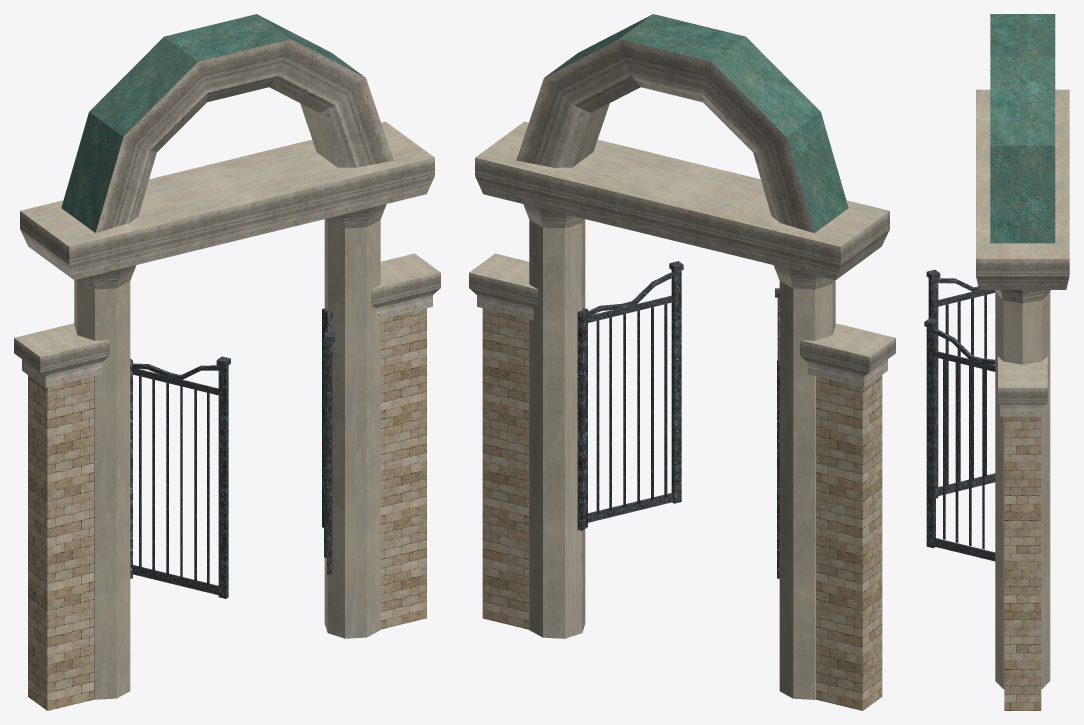
File: thm_nboo_imprv_narrow_gate_s01_l1.fbx
3 renders of one model, left to right at view 1: azimuth 30°, elevation 25°; view 2: azimuth 150°, elevation 25°; view 3: azimuth 270°, elevation 25°, orthographic. The views are drawn at different scales.
Visible parts, largest first — view 1: mesh_node; view 2: mesh_node; view 3: mesh_node.
Part boxes in pixels (x1,y1,x2,y2): mesh_node: (14,14,440,710); mesh_node: (469,14,895,710); mesh_node: (924,14,1069,710).
Bounding box in the file's own units: 8.01 × 11.83 × 2.65.
